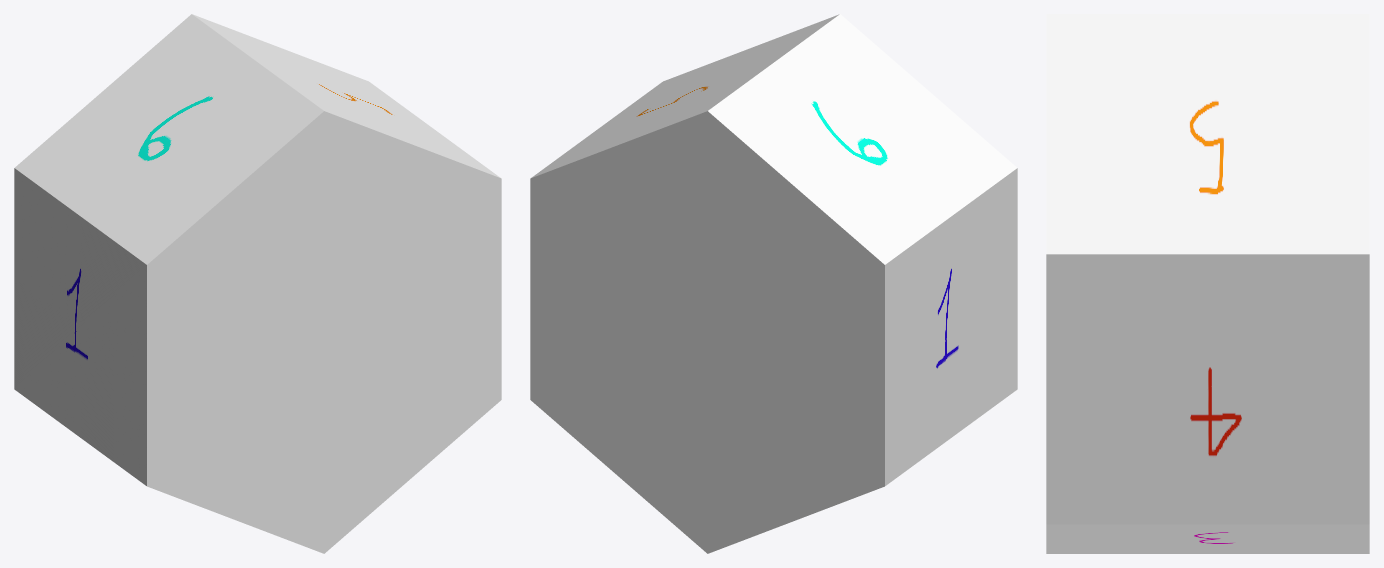
The model's file is RodaCaçaniquel.glb.
3 renders of one model, left to right at view 1: azimuth 30°, elevation 25°; view 2: azimuth 150°, elevation 25°; view 3: azimuth 270°, elevation 25°, orthographic. The views are drawn at different scales.
Parts seen in each view (by area): view 1: Cylinder; view 2: Cylinder; view 3: Cylinder.
Boxes of the visible parts, bbox=[...] form: Cylinder: bbox=[14, 14, 501, 553]; Cylinder: bbox=[530, 14, 1017, 553]; Cylinder: bbox=[1046, 14, 1369, 553].
Bounding box in the file's own units: 0.2909 × 0.3472 × 0.1884.
Materials: 1 (1 with a texture image).
